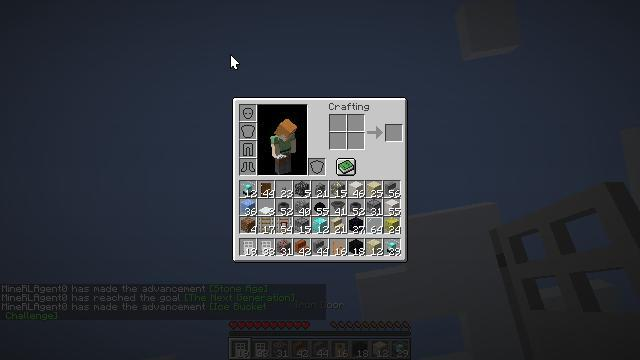cursor: (230, 54, 240, 70)
